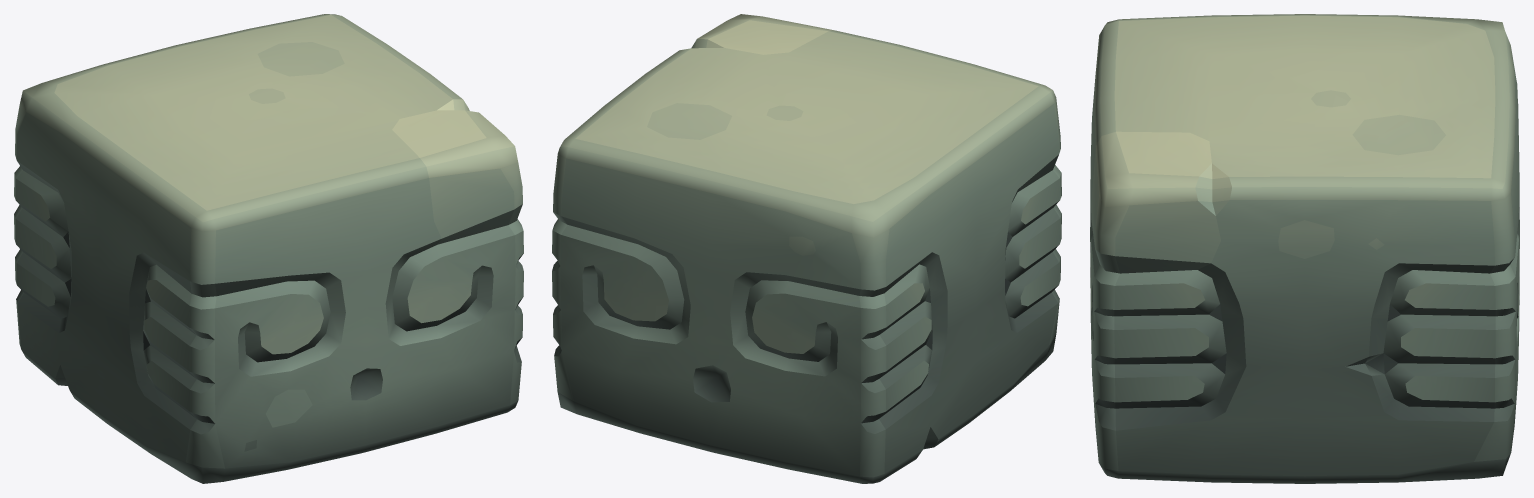
Rendered from stone_cubes3.fbx.
3 renders of one model, left to right at view 1: azimuth 30°, elevation 25°; view 2: azimuth 150°, elevation 25°; view 3: azimuth 270°, elevation 25°, orthographic. The views are drawn at different scales.
Parts seen in each view (by area): view 1: stone_cubes3; view 2: stone_cubes3; view 3: stone_cubes3.
Boxes of the visible parts, box(x1,y1,x2,y2) form: stone_cubes3: box(14, 14, 523, 483); stone_cubes3: box(552, 14, 1061, 483); stone_cubes3: box(1090, 14, 1519, 483).
Size of the model in its own units: 217 by 174 by 218.
Materials: 1 (1 with a texture image).
